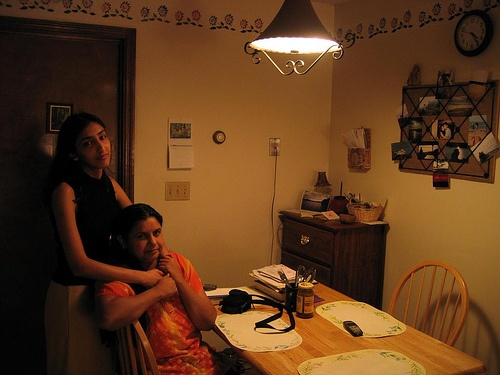head: (114, 203, 164, 263), (74, 117, 113, 176)
person: (42, 113, 174, 373), (98, 201, 232, 373)
